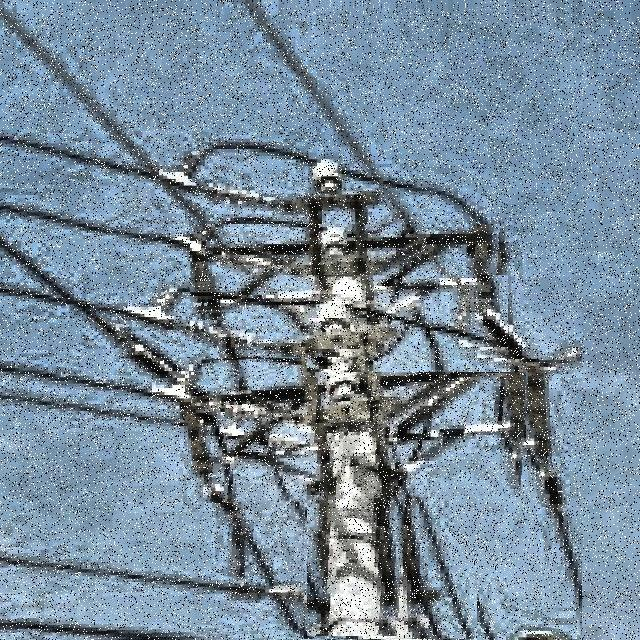crossarm: (191, 372, 529, 504), (190, 224, 496, 321), (204, 275, 508, 359)
pole: (307, 229, 402, 636)
wire: (0, 4, 477, 639), (237, 0, 582, 637), (0, 234, 304, 635)
